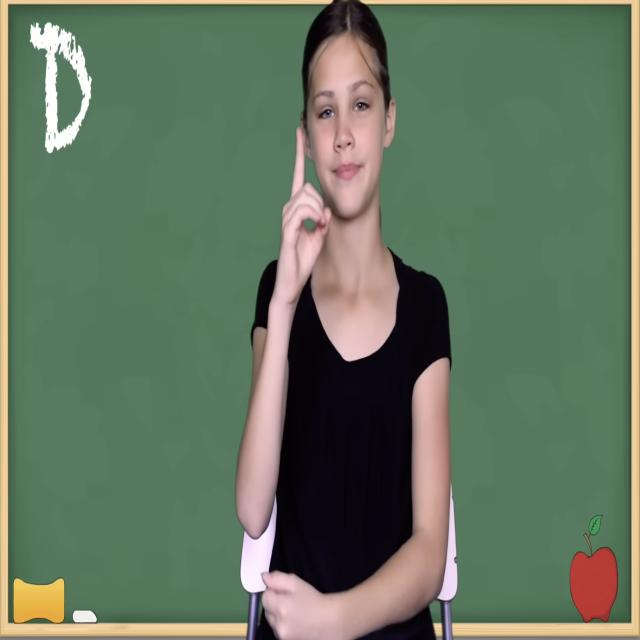D: (268, 118, 338, 305)
